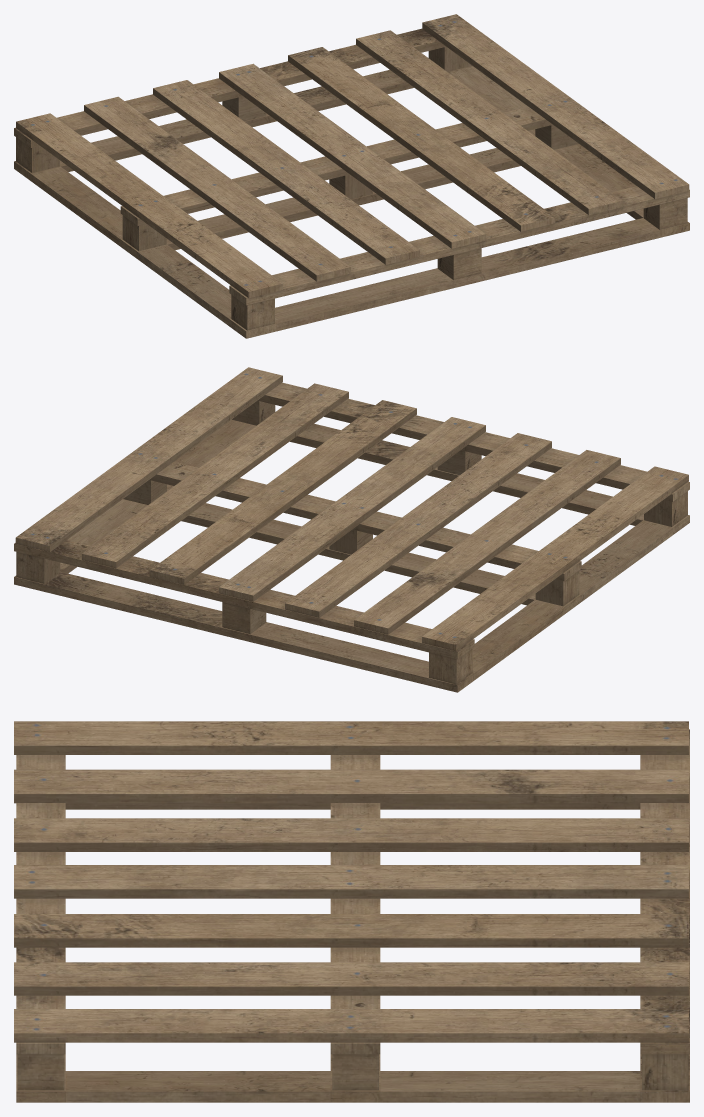
Rendered from pallet.glb.
3 renders of one model, top to bottom at view 1: azimuth 30°, elevation 25°; view 2: azimuth 150°, elevation 25°; view 3: azimuth 270°, elevation 25°, orthographic. The views are drawn at different scales.
Visible parts, largest first — view 1: Pallet; view 2: Pallet; view 3: Pallet.
Boxes of the visible parts, <box> form: Pallet: <box>14,14,689,338</box>; Pallet: <box>14,367,689,692</box>; Pallet: <box>14,721,689,1102</box>.
Size of the model in its own units: 1.2 by 0.1215 by 1.09.
Materials: 1 (1 with a texture image).
